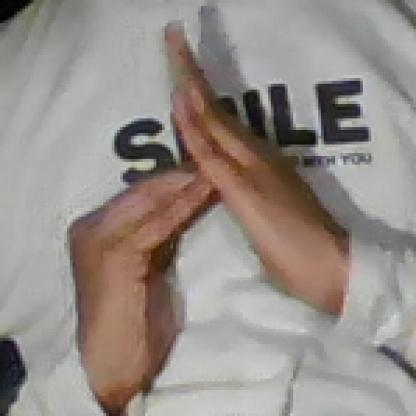Z: (60, 10, 309, 385)
